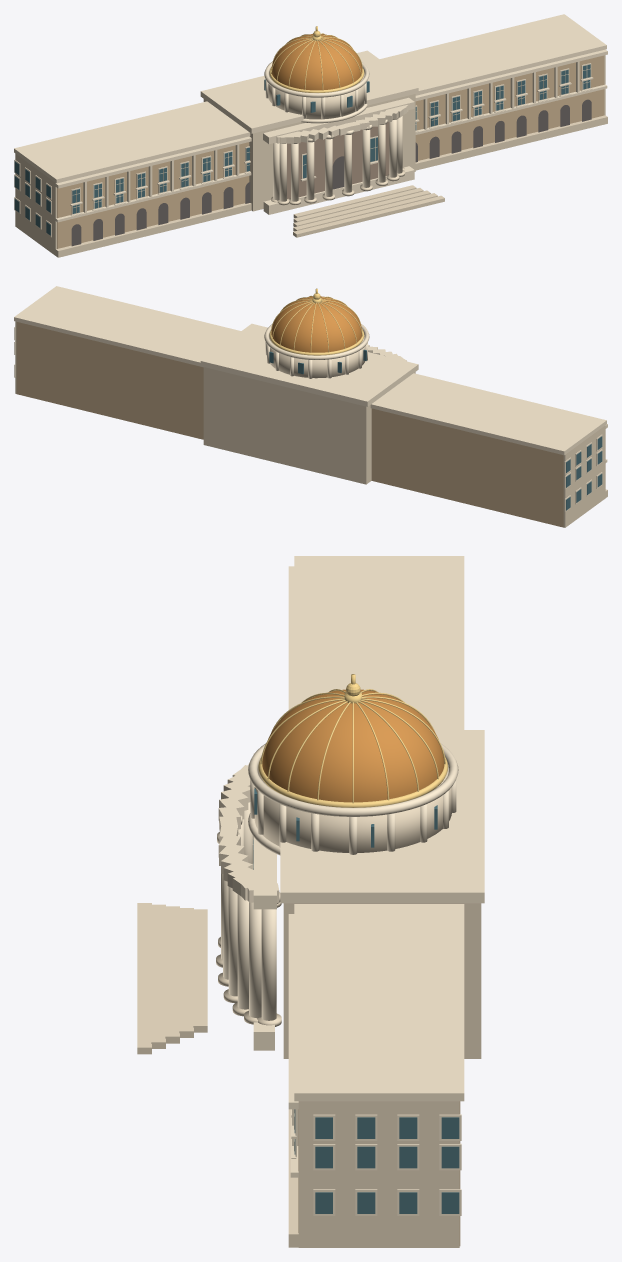
Rendered from muj-building.glb.
3 renders of one model, top to bottom at view 1: azimuth 30°, elevation 25°; view 2: azimuth 150°, elevation 25°; view 3: azimuth 270°, elevation 25°, orthographic. The views are drawn at different scales.
Parts seen in each view (by area): view 1: Wing roof slab, Wing roof slab.001, Wing mass, Wing mass.001, Core roof, Golden central dome, Central administration block, Portico shadow, Wing end wall, Wing base, Wing base.001, Rotunda drum (+24 smaller); view 2: Wing mass, Wing mass.001, Central administration block, Wing roof slab, Wing roof slab.001, Core roof, Golden central dome, Wing end wall, Rotunda drum, Drum upper ring, Dome edge band; view 3: Wing roof slab.001, Wing roof slab, Wing end wall.001, Core roof, Golden central dome, Rotunda drum, Central administration block, Drum upper ring, Broad front steps.004, Broad front steps.003, Broad front steps.002, Broad front steps.001 (+10 smaller).
Part boxes in pixels (x1,y1,x2,y2): Wing roof slab: (14,101,250,183); Wing roof slab.001: (380,14,606,95); Wing mass: (57,142,249,248); Wing mass.001: (415,55,604,160); Core roof: (200,50,418,133); Golden central dome: (271,34,362,90); Central administration block: (203,94,415,211); Portico shadow: (287,121,389,198); Wing end wall: (15,153,56,255); Wing base: (55,203,251,257); Wing base.001: (415,115,607,170); Rotunda drum: (268,72,364,119); Wing mass: (371,408,563,527); Wing mass.001: (16,322,203,439); Central administration block: (203,367,415,484); Wing roof slab: (370,373,606,455); Wing roof slab.001: (14,286,240,367); Core roof: (200,323,418,406); Golden central dome: (271,296,362,352); Wing end wall: (563,425,605,527); Rotunda drum: (269,334,365,378); Drum upper ring: (264,324,369,359); Dome edge band: (269,329,364,355); Wing roof slab.001: (294,904,464,1101); Wing roof slab: (294,556,464,729); Wing end wall.001: (298,1101,459,1247); Core roof: (280,730,484,903); Golden central dome: (262,689,444,802); Rotunda drum: (254,765,451,852); Central administration block: (283,903,481,1058); Drum upper ring: (248,743,458,816); Broad front steps.004: (137,903,151,1054); Broad front steps.003: (151,904,165,1048); Broad front steps.002: (165,906,179,1043); Broad front steps.001: (179,908,193,1037).
Bounding box in the file's own units: 39.33 × 10.46 × 10.72.
